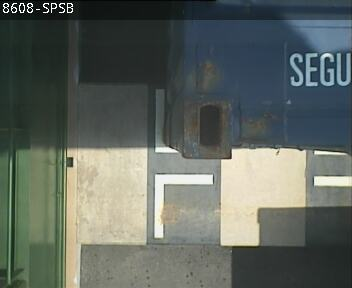groundmarker_1: (152, 87, 213, 237)
